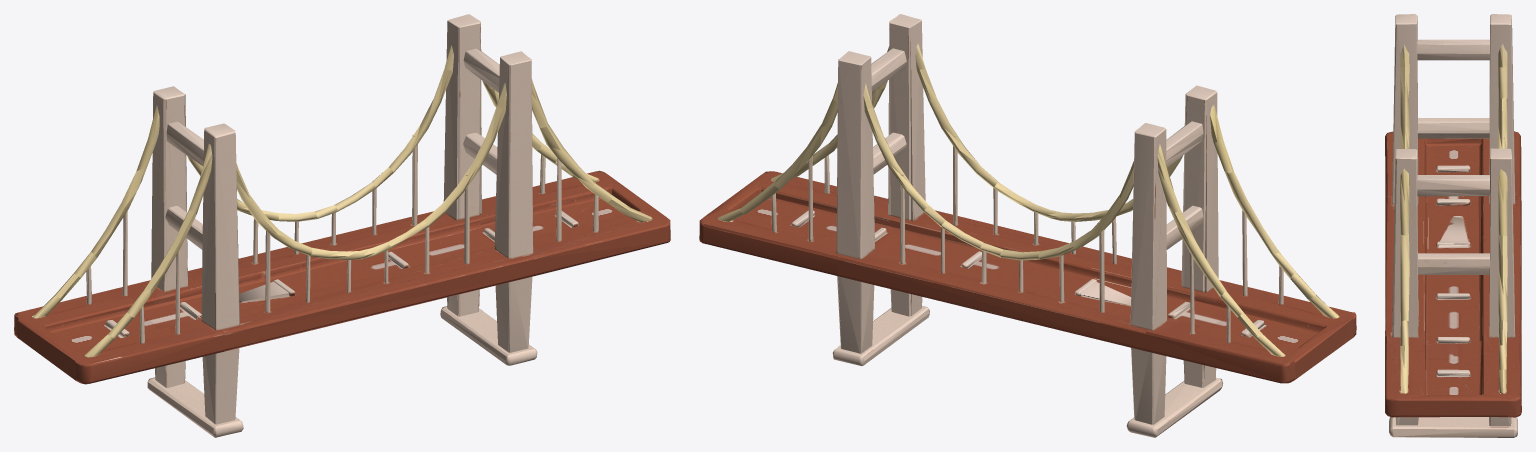
The model's file is suspension-bridge.glb.
The picture shows the model from 3 angles, left to right: view 1: azimuth 30°, elevation 25°; view 2: azimuth 150°, elevation 25°; view 3: azimuth 270°, elevation 25°; orthographic projection. The views are drawn at different scales.
Visible parts, largest first — view 1: mesh_node; view 2: mesh_node; view 3: mesh_node.
Boxes of the visible parts, x1,y1,x2,y2 form: mesh_node: [14, 14, 670, 437]; mesh_node: [699, 14, 1356, 437]; mesh_node: [1385, 14, 1521, 437].
Bounding box in the file's own units: 1 × 0.4873 × 0.2153.
1 material, 1 textured.
